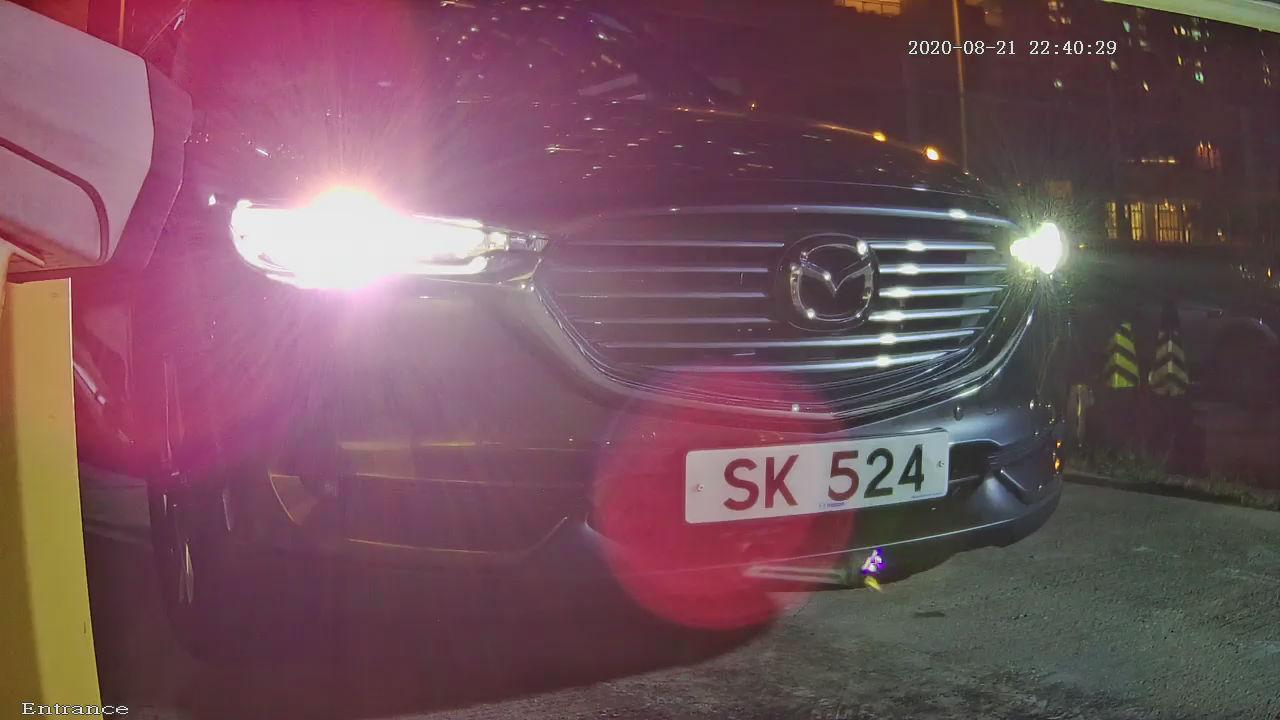License Plate: (632, 399, 998, 567)
